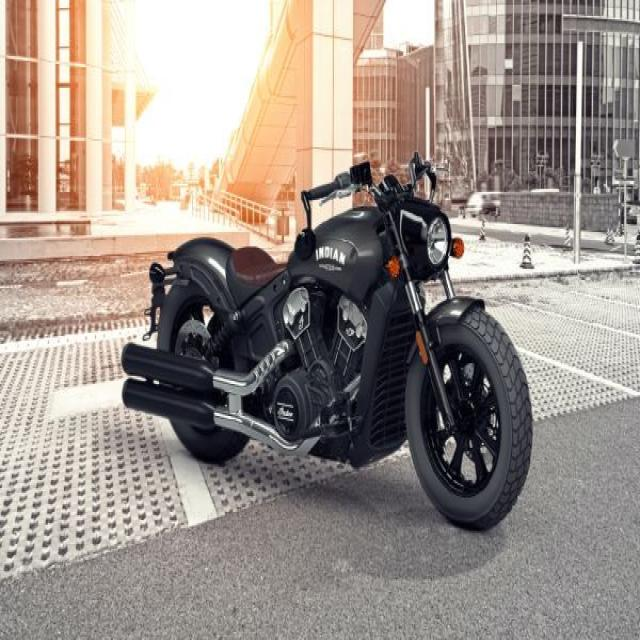motorcycle: (121, 156, 532, 528)
